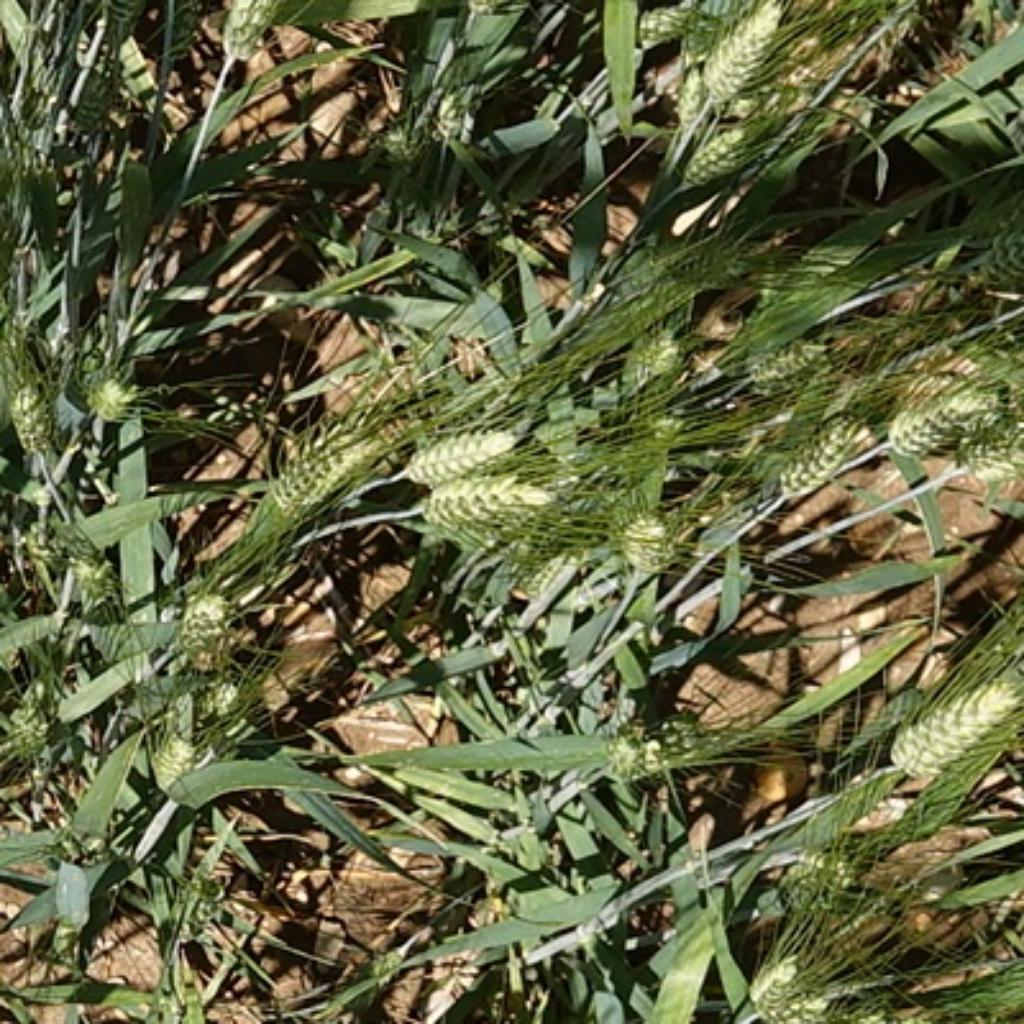0-0: (875, 657, 1016, 780), (883, 358, 1024, 468), (629, 225, 798, 302), (742, 396, 870, 491), (586, 704, 720, 794), (407, 463, 555, 540), (0, 302, 74, 453), (120, 657, 266, 732), (263, 419, 383, 509), (367, 62, 473, 162), (701, 2, 788, 102), (601, 391, 698, 476), (742, 939, 837, 1024), (15, 510, 104, 600), (770, 834, 865, 916), (161, 568, 240, 663), (0, 668, 74, 765), (148, 852, 230, 939), (399, 417, 519, 476), (675, 122, 773, 194), (599, 494, 688, 573), (742, 327, 837, 394), (949, 216, 1024, 296), (609, 317, 686, 394), (69, 343, 135, 419), (655, 58, 719, 133), (215, 2, 276, 79), (638, 0, 702, 64), (143, 721, 204, 783)
